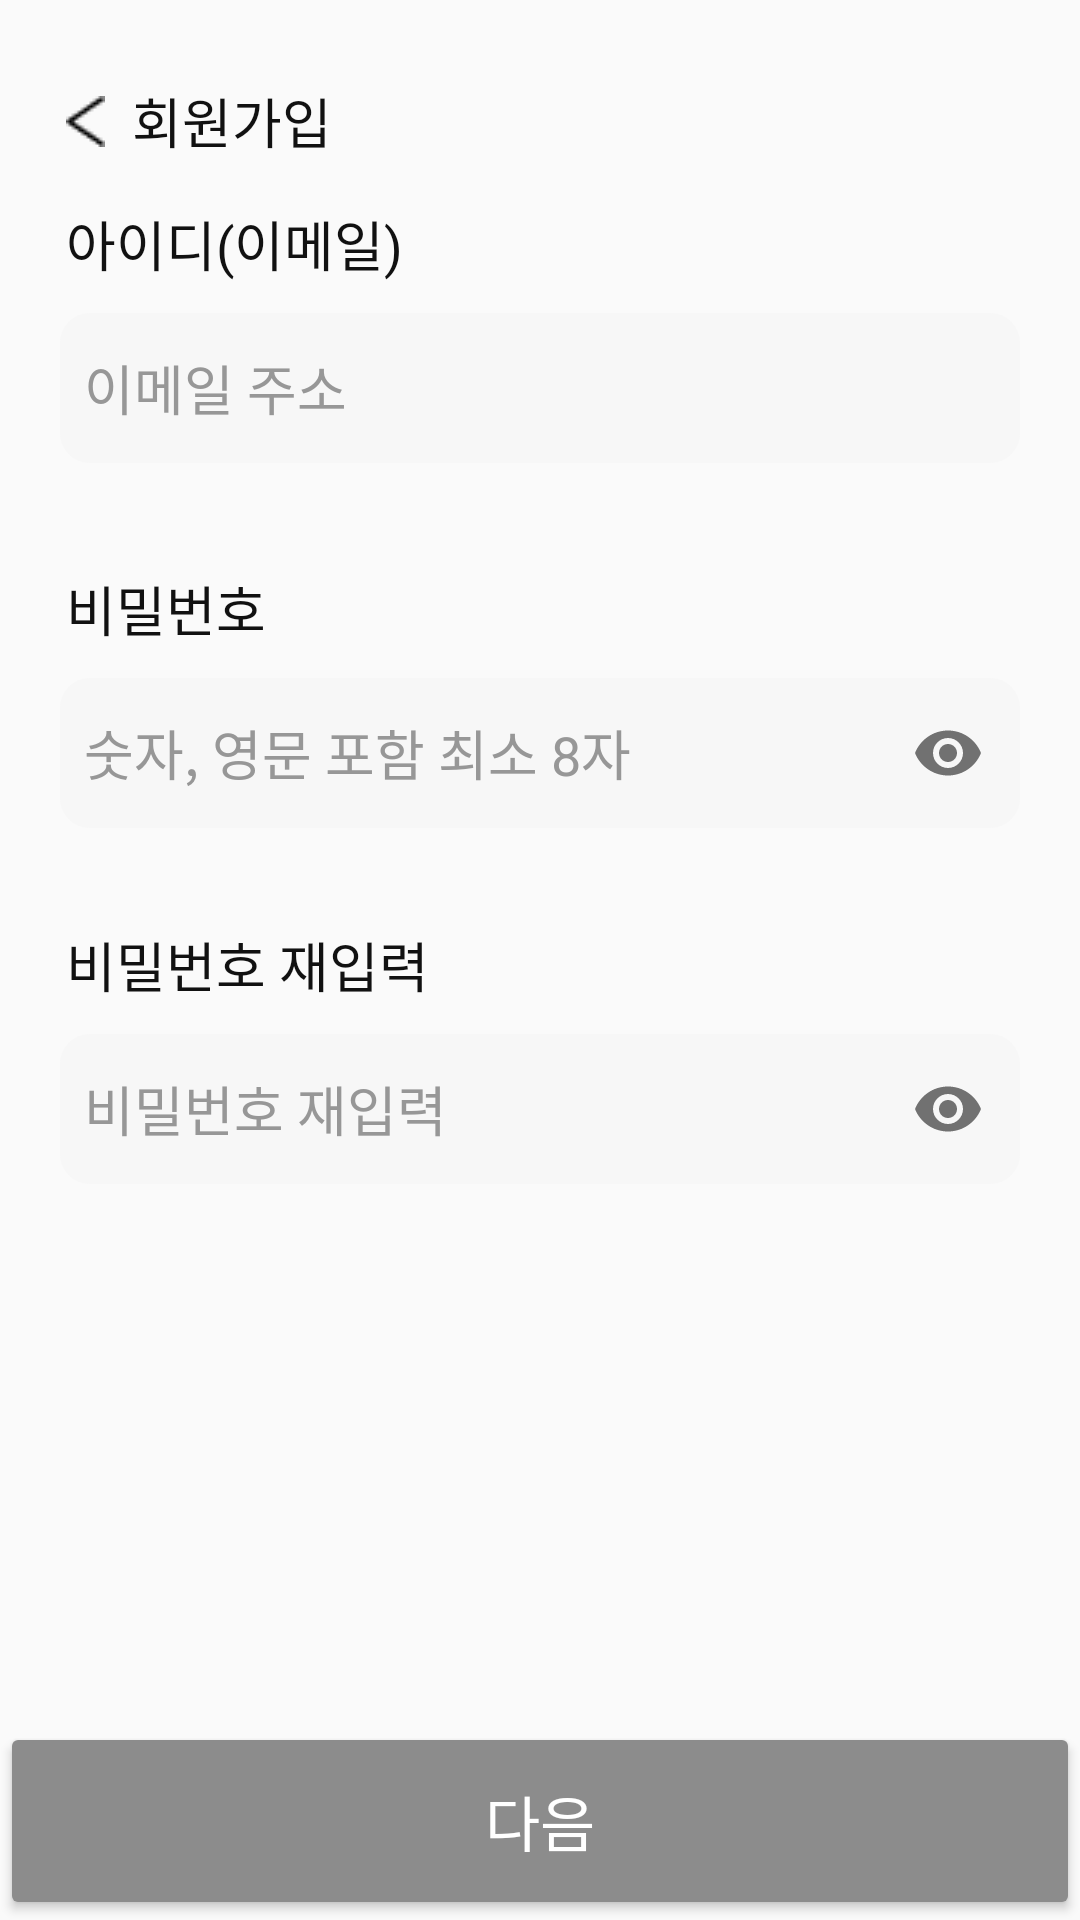

Icons on this 1080 x 1920 Android screen, each with its box as (left=x1, top=y1, right=x2, bottom=y2):
leftarrow: (left=66, top=96, right=105, bottom=147)
